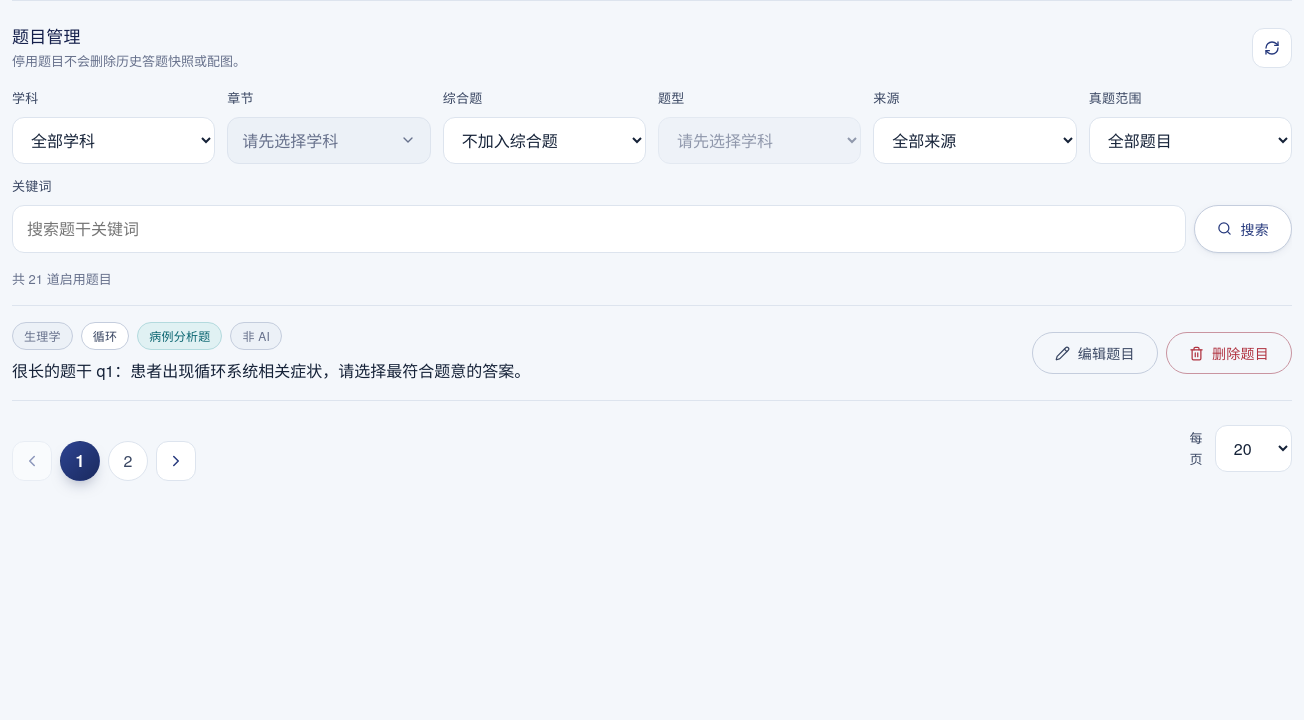
Test case: AdminQuizManage › moves to the previous page after deleting the last item on a later page
The image size is (1304, 720).
Click the button named "下一页": (176, 461) [156, 441, 196, 481]
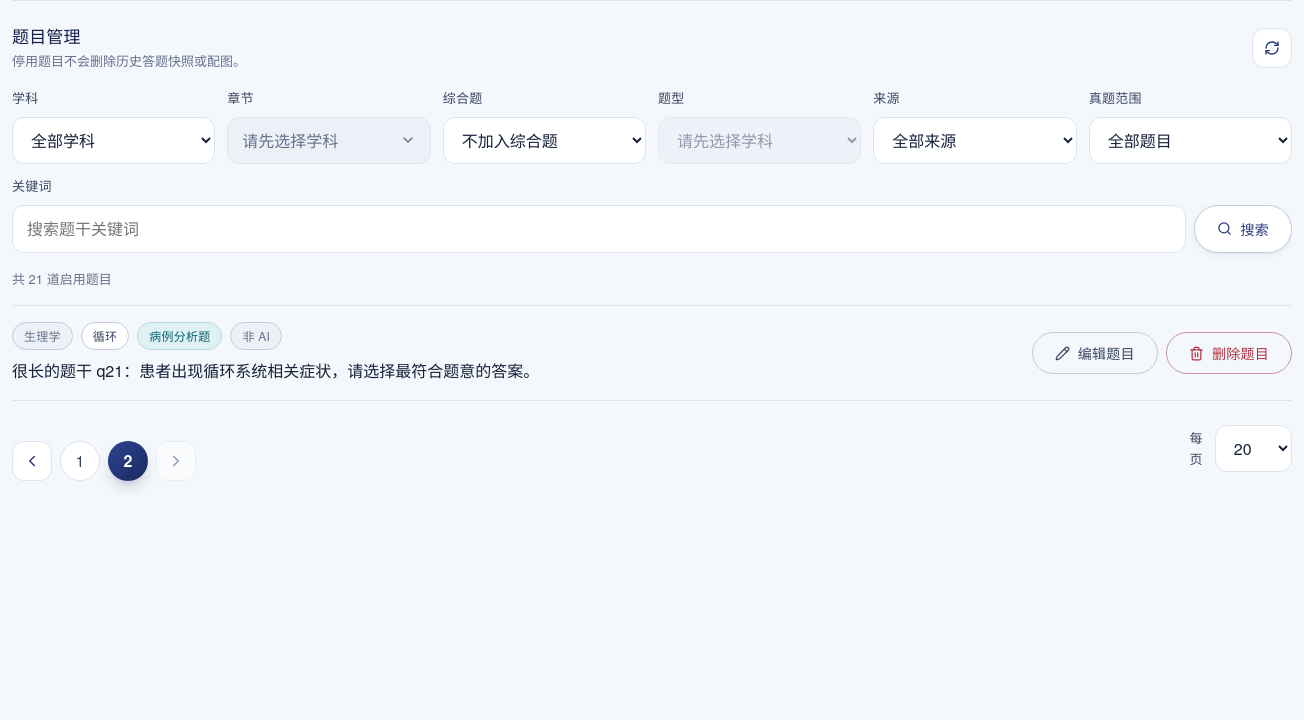
expect the text "很长的题干 q21" is shown: met, box [12, 358, 539, 382]
Click the button with class "delete-button": (1229, 353) [1166, 332, 1292, 374]
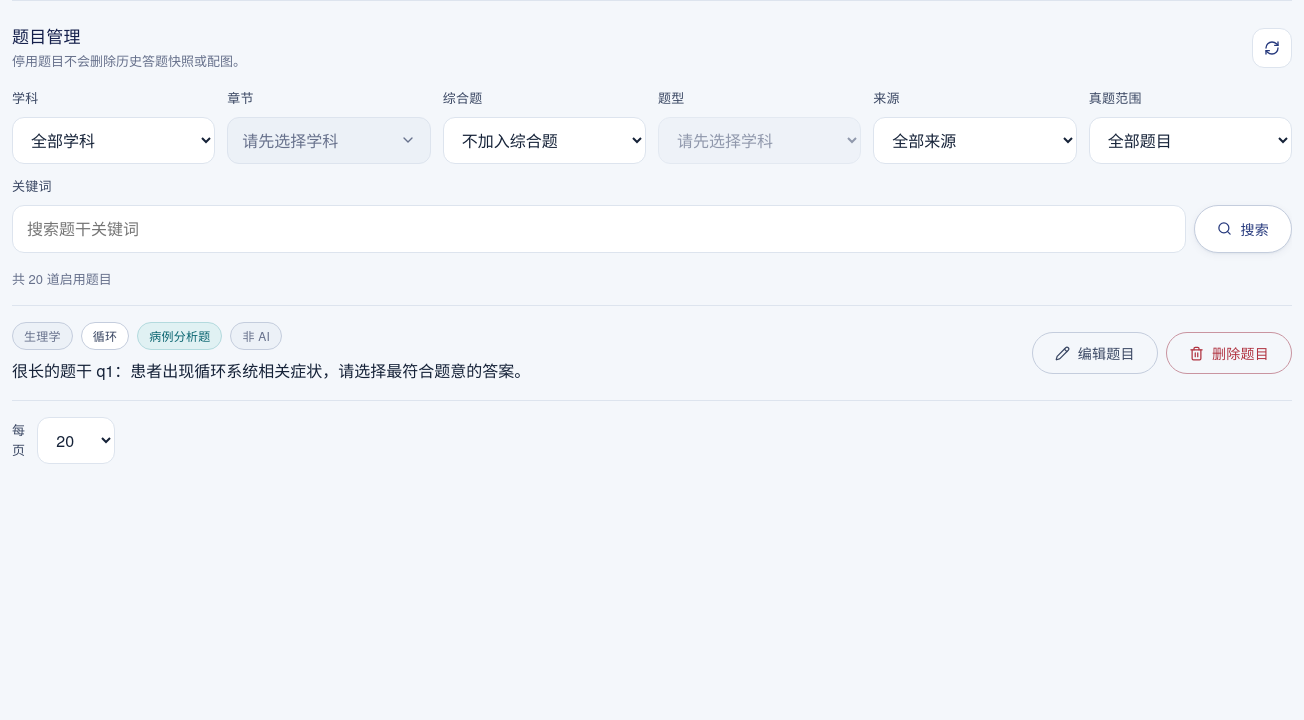
expect the text "很长的题干 q1" is shown: met, box [12, 358, 530, 382]
